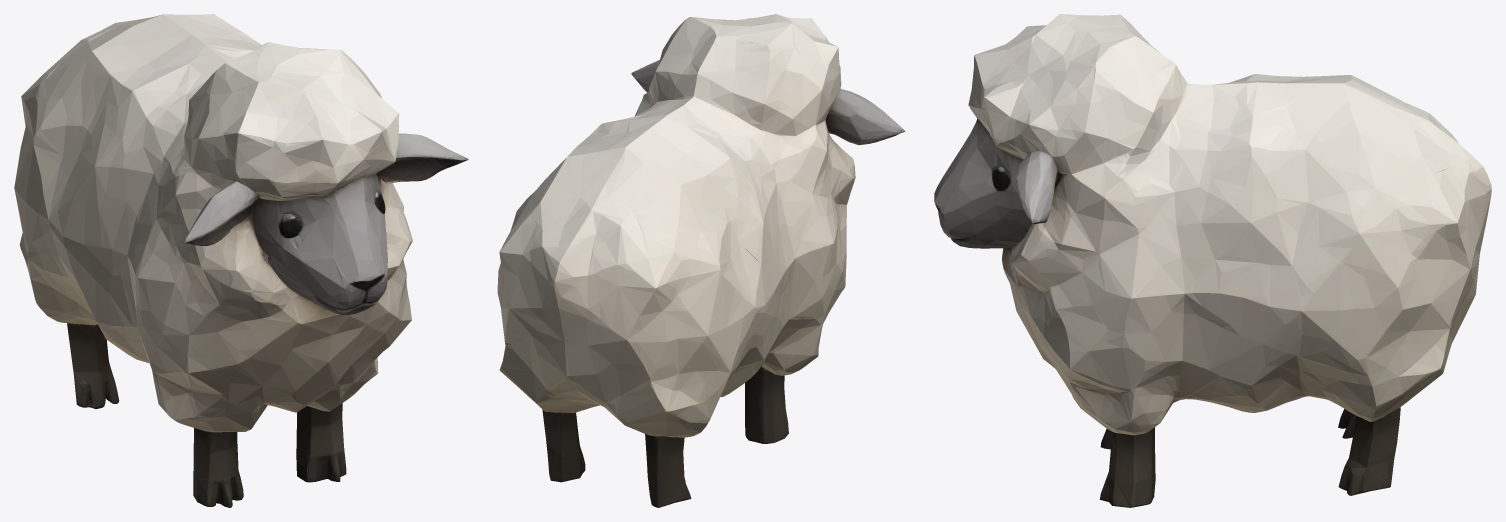
File: sheep.glb
3 views of the same model, side by side, from view 1: azimuth 30°, elevation 25°; view 2: azimuth 150°, elevation 25°; view 3: azimuth 270°, elevation 25° (orthographic). The views are drawn at different scales.
Visible parts, largest first — view 1: world; view 2: world; view 3: world.
Boxes of the visible parts, x1=… form: world: x1=14, y1=14, x2=468, y2=507; world: x1=497, y1=14, x2=904, y2=507; world: x1=934, y1=14, x2=1491, y2=507.
Bounding box in the file's own units: 0.6137 × 0.8658 × 0.9988.
1 material, 1 textured.
